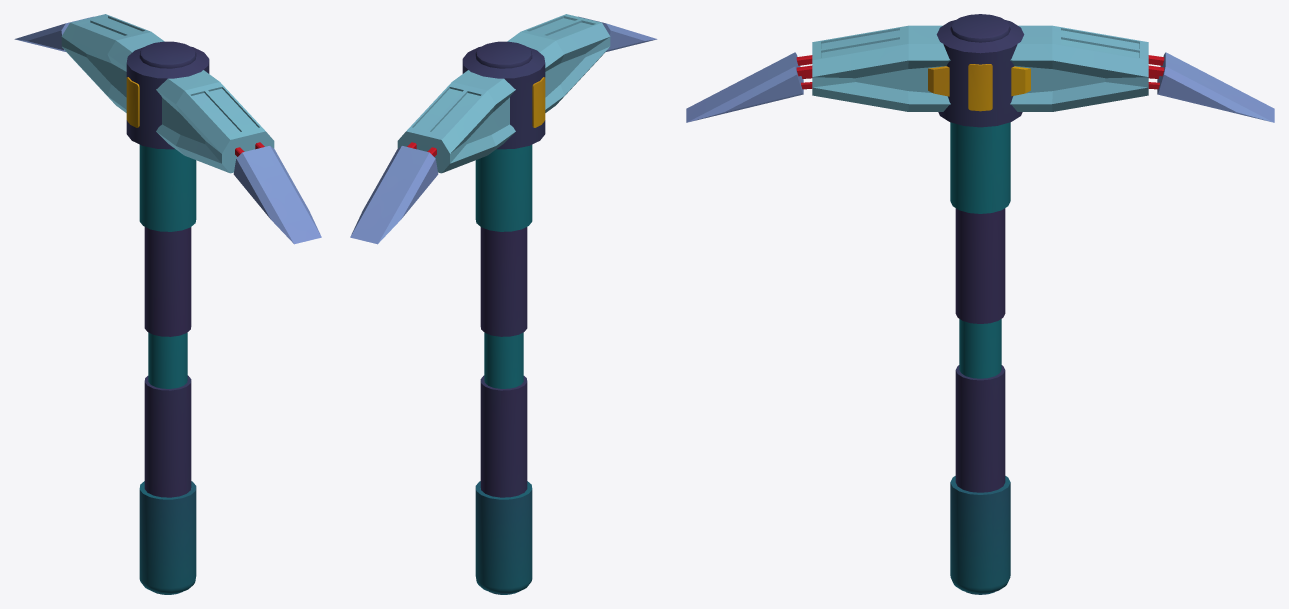
The model's file is 3pickaxe.fbx.
3 views of the same model, side by side, from view 1: azimuth 30°, elevation 25°; view 2: azimuth 150°, elevation 25°; view 3: azimuth 270°, elevation 25° (orthographic). The views are drawn at different scales.
Visible parts, largest first — view 1: pickaxe3; view 2: pickaxe3; view 3: pickaxe3.
Boxes of the visible parts, left/top/right/bottom form: pickaxe3: left=14, top=14, right=321, bottom=594; pickaxe3: left=350, top=14, right=657, bottom=594; pickaxe3: left=686, top=14, right=1274, bottom=594.
Bounding box in the file's own units: 0.2619 × 1.78 × 1.69.
